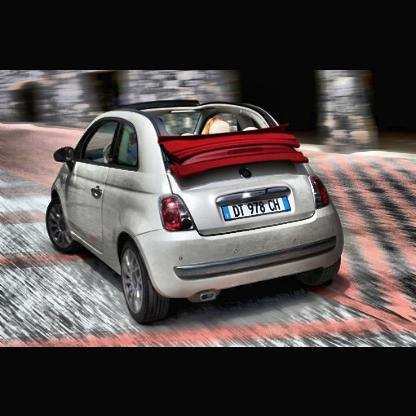FIAT 500 Convertible 2012: (46, 99, 348, 325)
